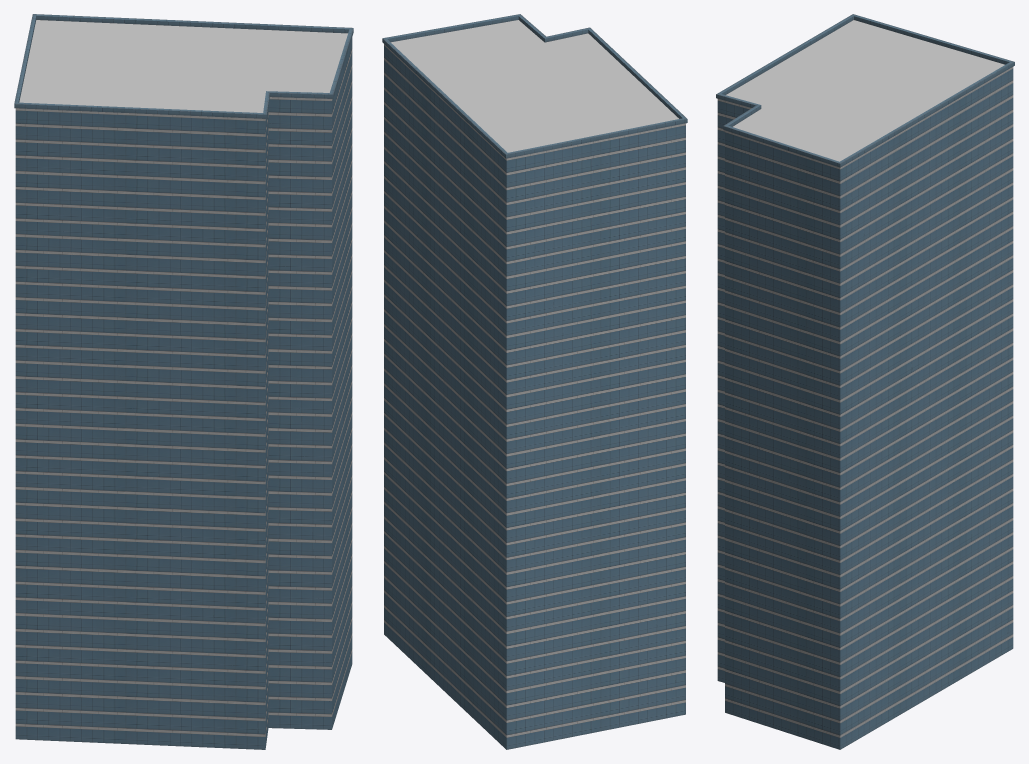
The model's file is Building_100.fbx.
3 views of the same model, side by side, from view 1: azimuth 30°, elevation 25°; view 2: azimuth 150°, elevation 25°; view 3: azimuth 270°, elevation 25° (orthographic). The views are drawn at different scales.
Parts seen in each view (by area): view 1: HighRise05, Roofpanels; view 2: HighRise05, Roofpanels; view 3: HighRise05, Roofpanels.
Part boxes in pixels (box(x1,y1,x2,y2)): HighRise05: box(14, 14, 353, 749); Roofpanels: box(19, 20, 347, 112); HighRise05: box(382, 14, 687, 749); Roofpanels: box(391, 20, 678, 152); HighRise05: box(716, 14, 1014, 749); Roofpanels: box(726, 20, 1004, 161).
Bounding box in the file's own units: 2081 × 3799 × 1753.
